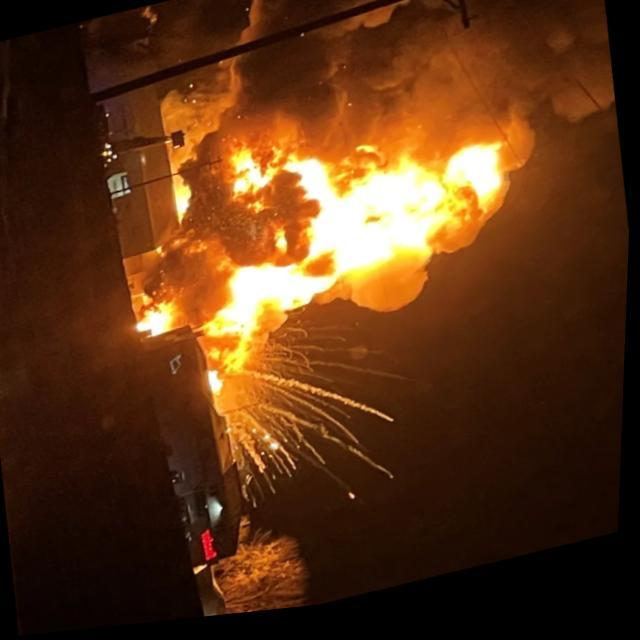fire: (183, 84, 582, 400)
